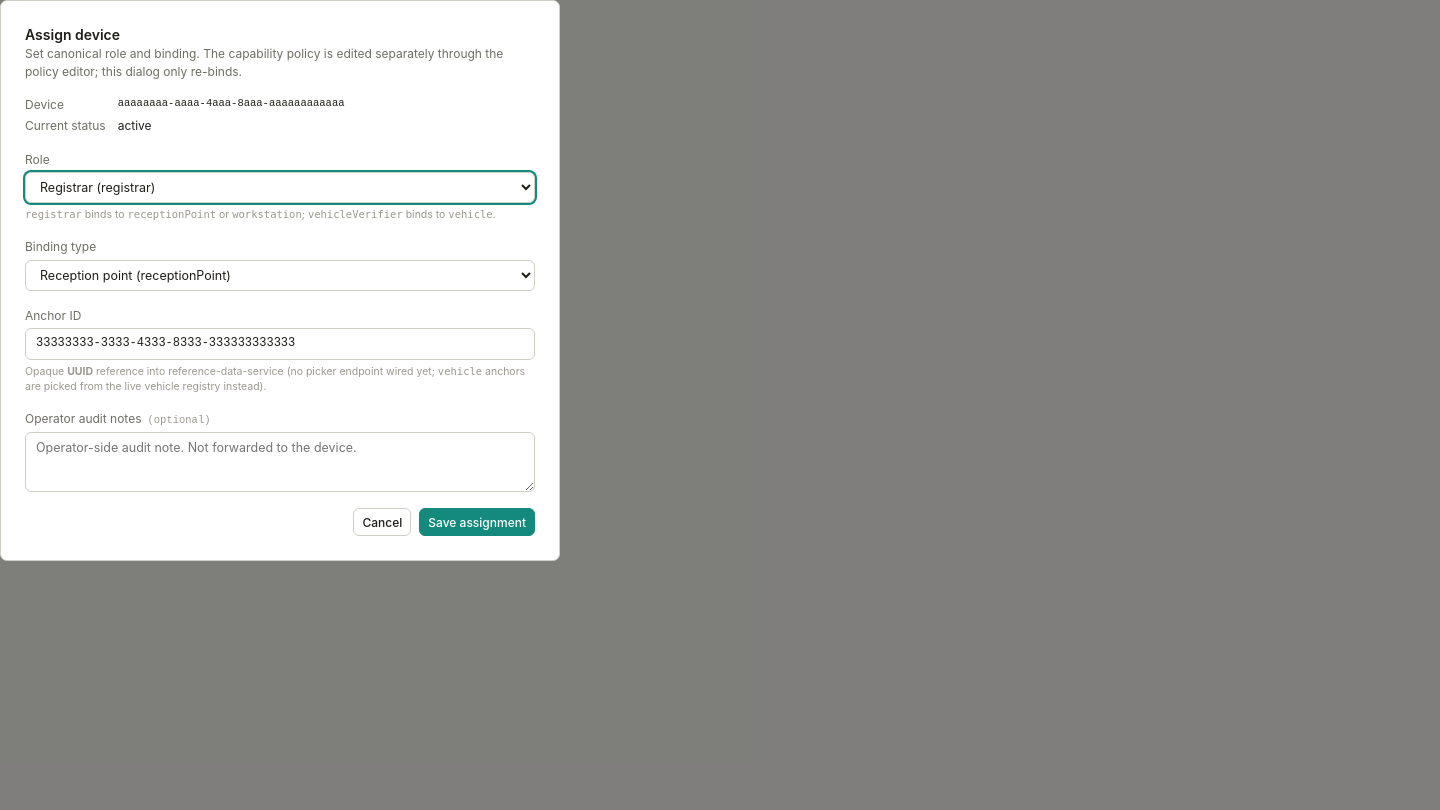
Test: assign dialog · vehicle anchor picker › surfaces a vehicle-registry failure through the error taxonomy with a retry
Select "Vehicle verifier (vehicleVerifier)" in the dropdown labelled "Role": [280, 188] box [25,172,535,203]
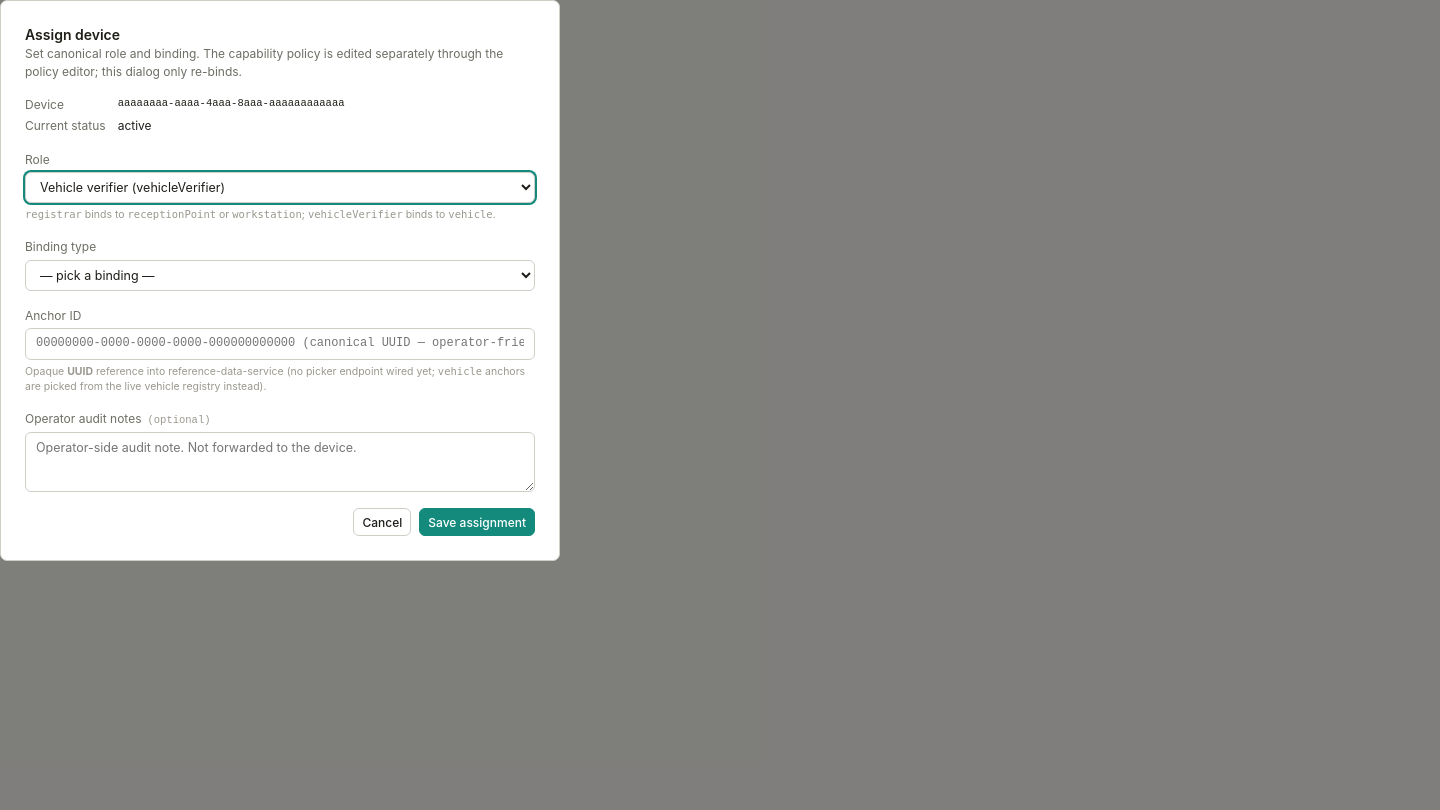
Select "Vehicle (vehicle)" in the dropdown labelled "Binding type": [280, 275] box [25,260,535,291]
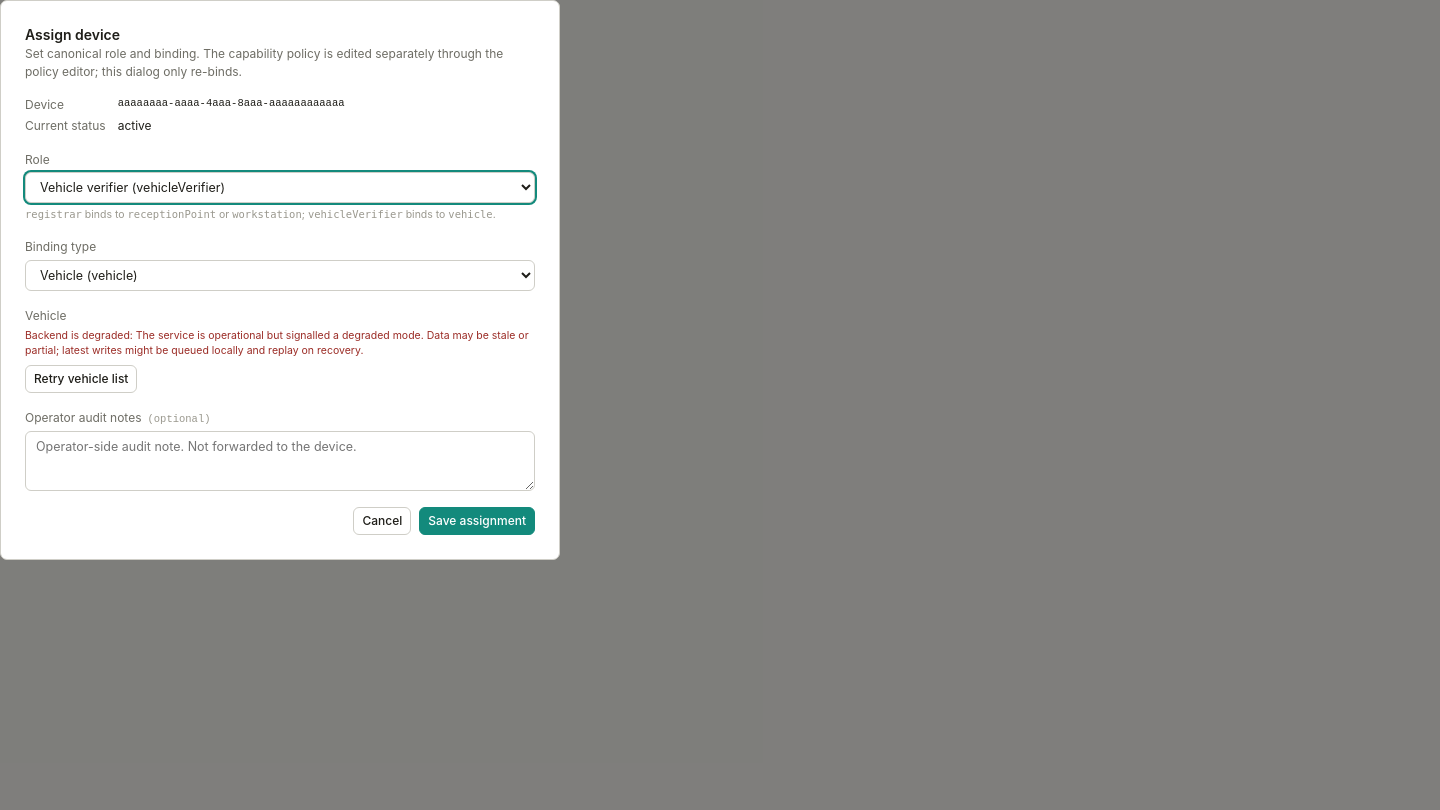
Check: the text "Backend is degraded" is shown, box [25,329,130,342]
Check: the label labelled "Anchor ID" is gone
Click the button "Retry vehicle list": [81, 379] box [25,365,137,393]
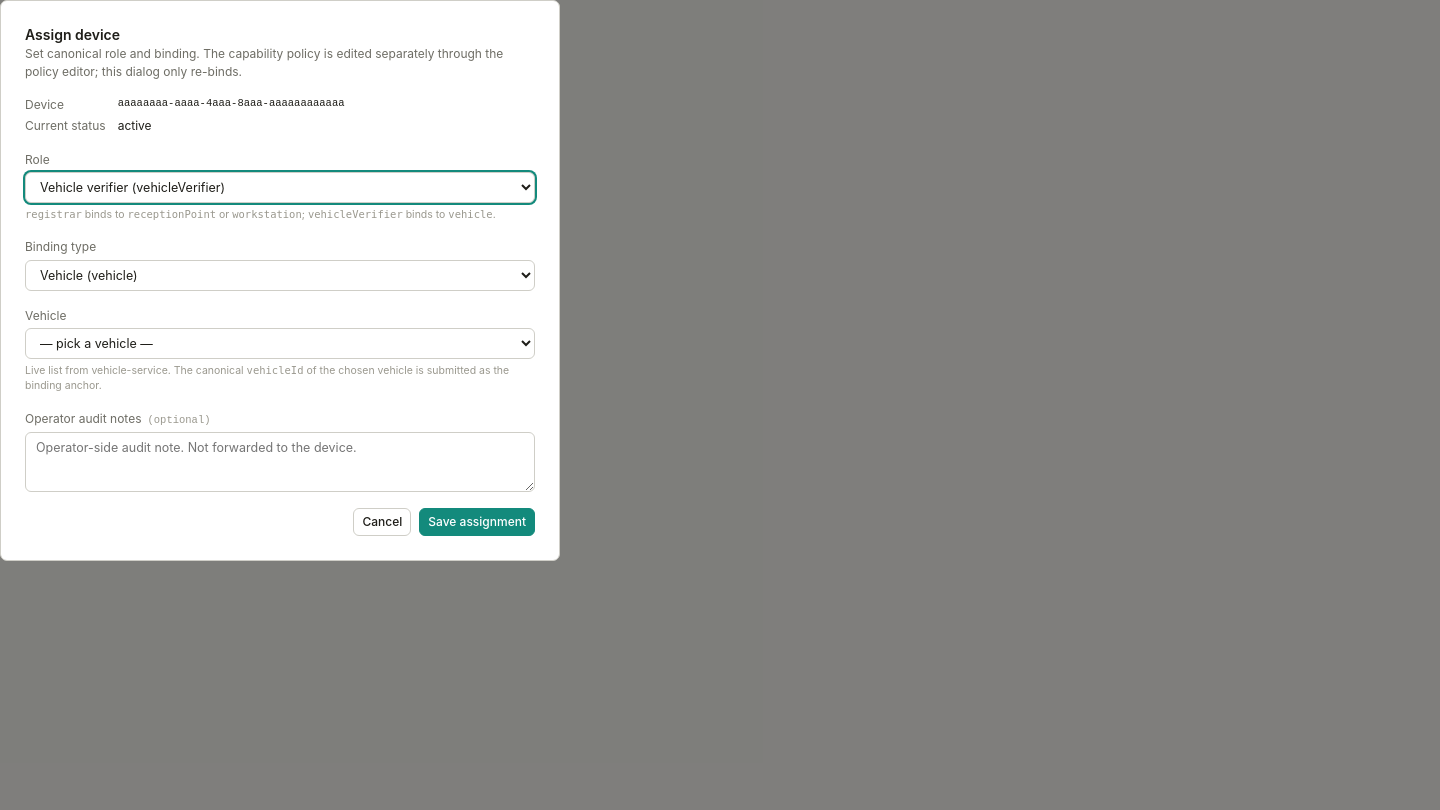
Check: the dropdown labelled "Vehicle" is shown, box [25,328,535,359]
